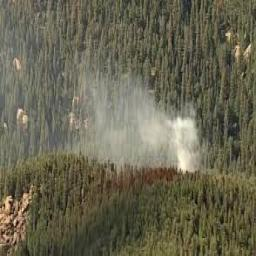Low smoke: (47, 63, 226, 196)
